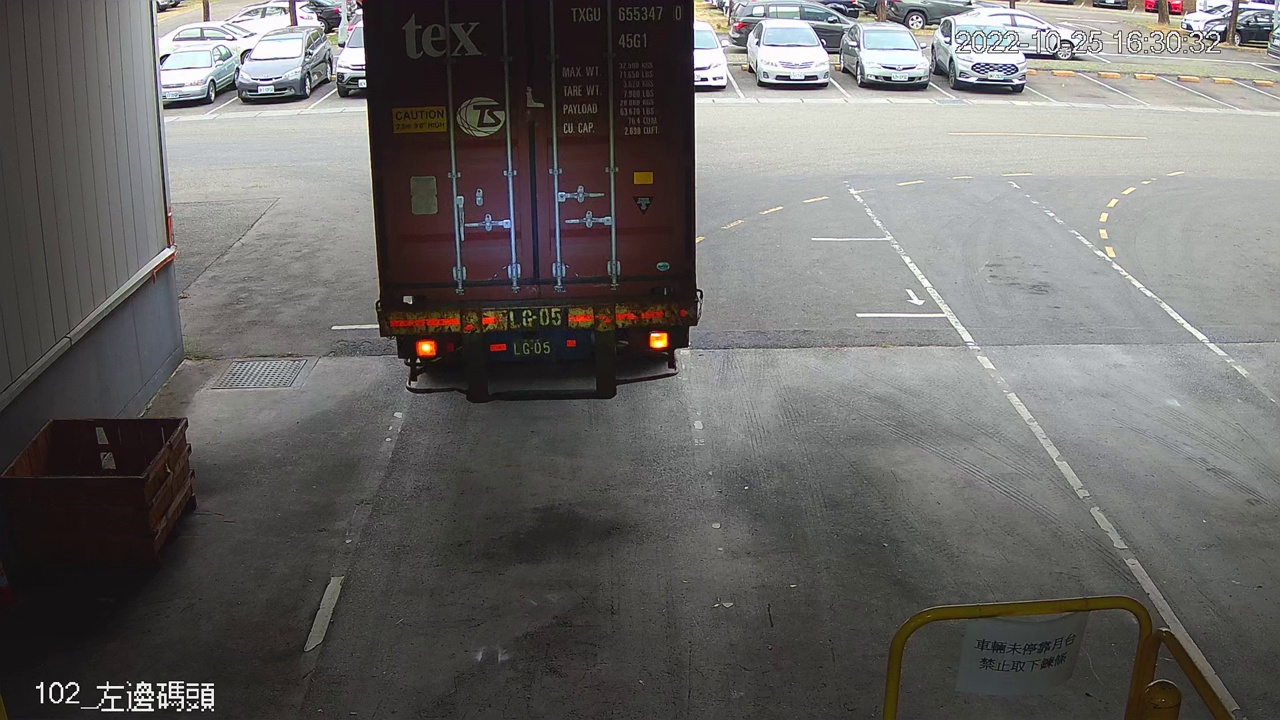container: (567, 2, 690, 53)
